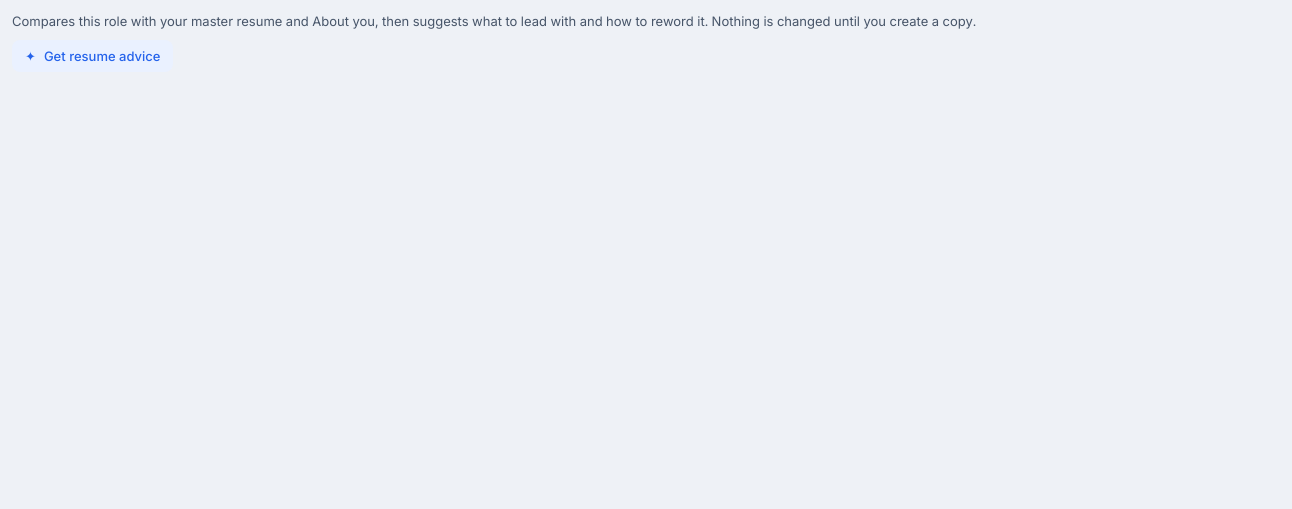
Test case: JobAdvice › shows a failure from creating the copy
Click the button "✦ Get resume advice" at (93, 56), box left=12, top=40, right=174, bottom=72
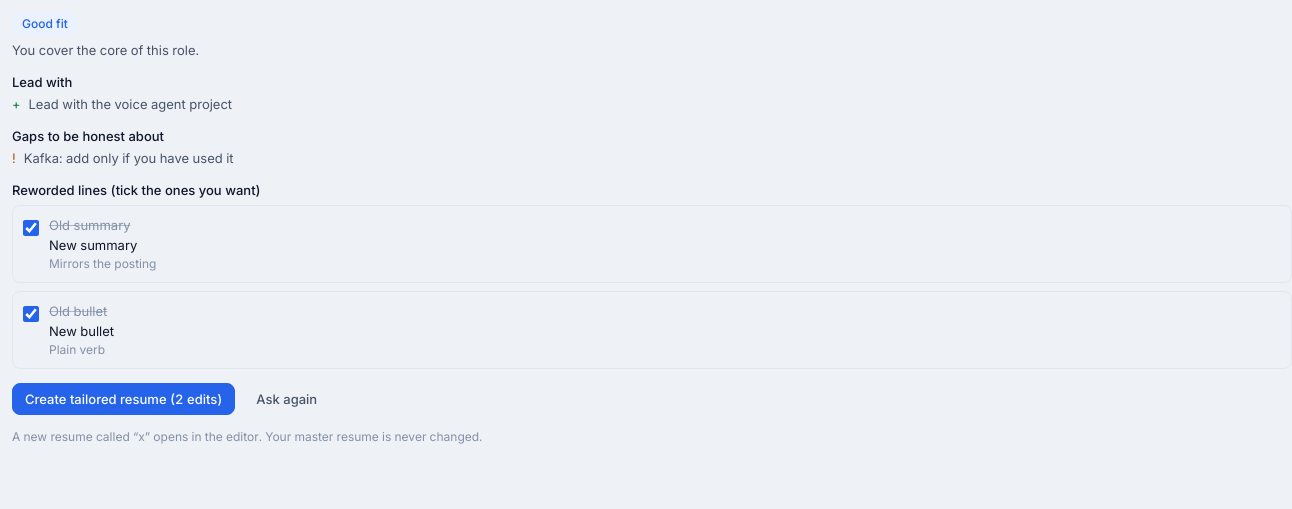
Click the button "Create tailored resume (2 edits)" at (124, 399), box left=12, top=383, right=235, bottom=415
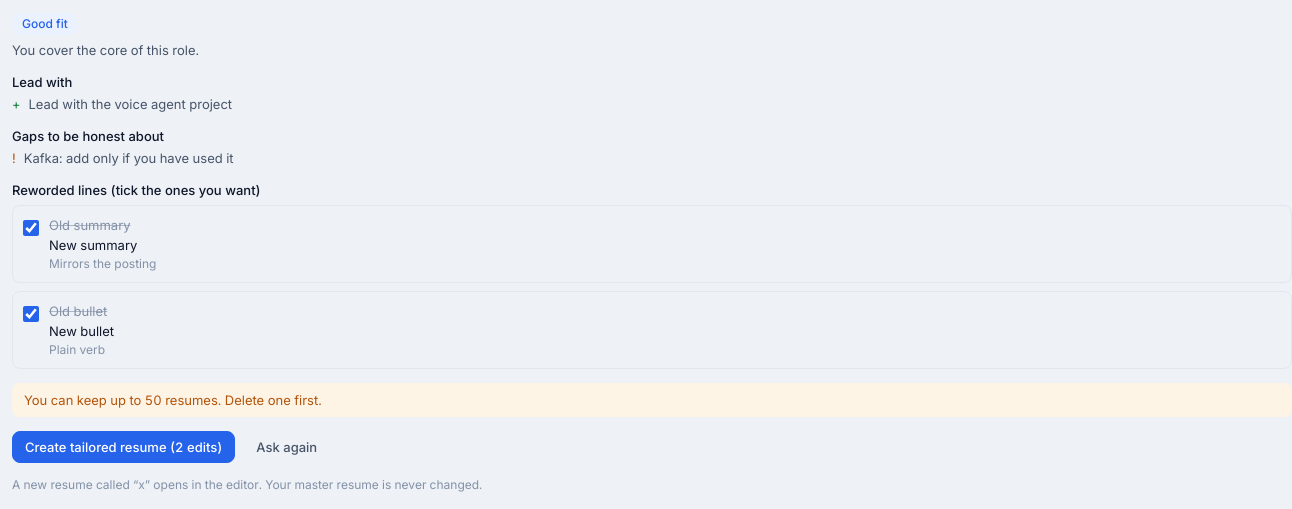
Expected: the message shows "50 resumes", left=24, top=392, right=322, bottom=408
